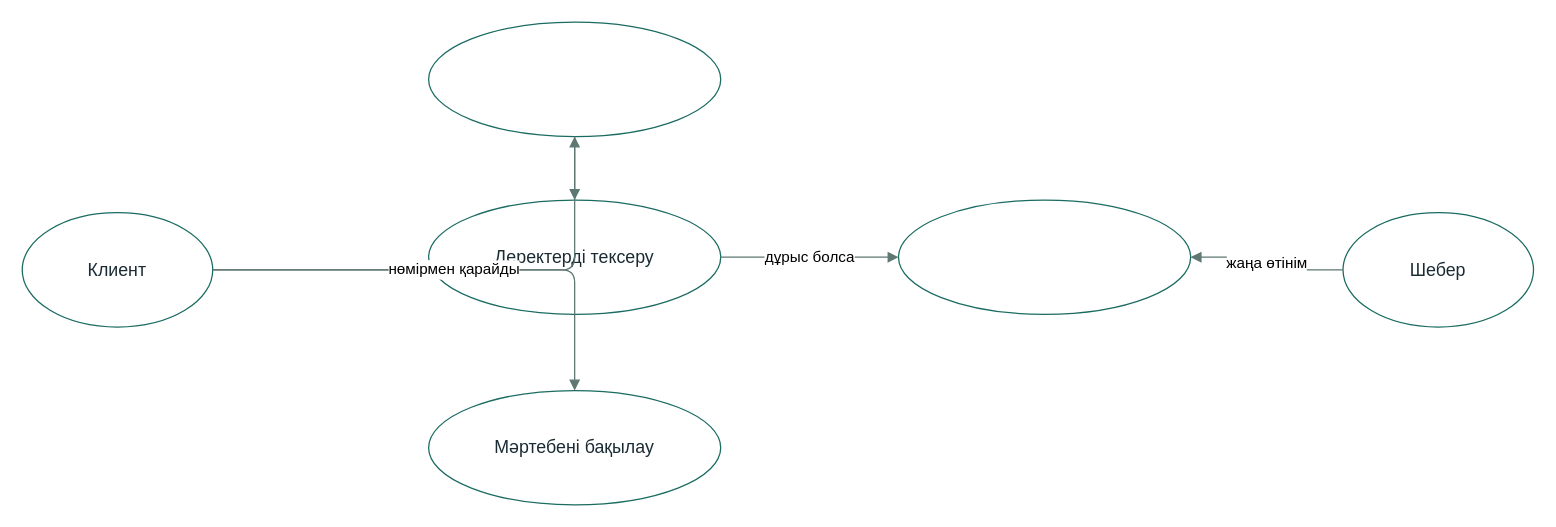
Image size: 1556x527. Some labels were removed from this diagram. The shapes that lost their labels are listed below. From the top down, each one's box as (x1, y1, x2, y2) in pixels, then its label:
(427, 21, 721, 137): Өтінім беру
(897, 199, 1191, 314): Хабарлама алу
